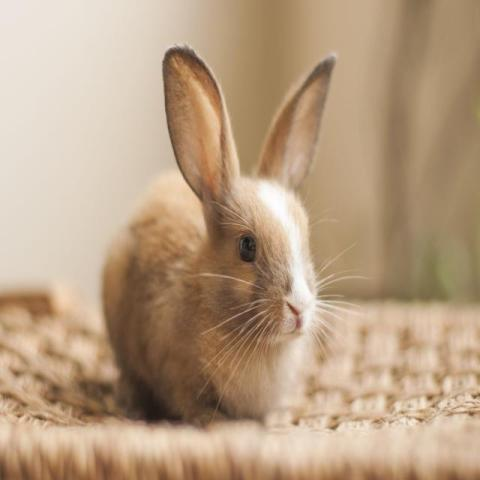small_animal: (98, 42, 364, 428)
